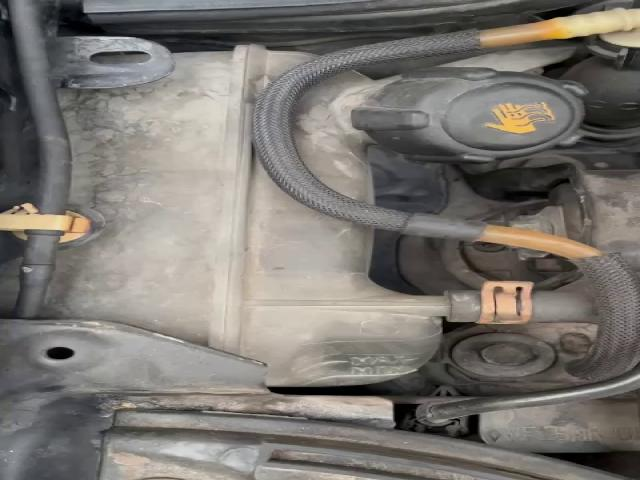antifreeze_tank: (44, 45, 444, 386), (296, 68, 583, 201)
